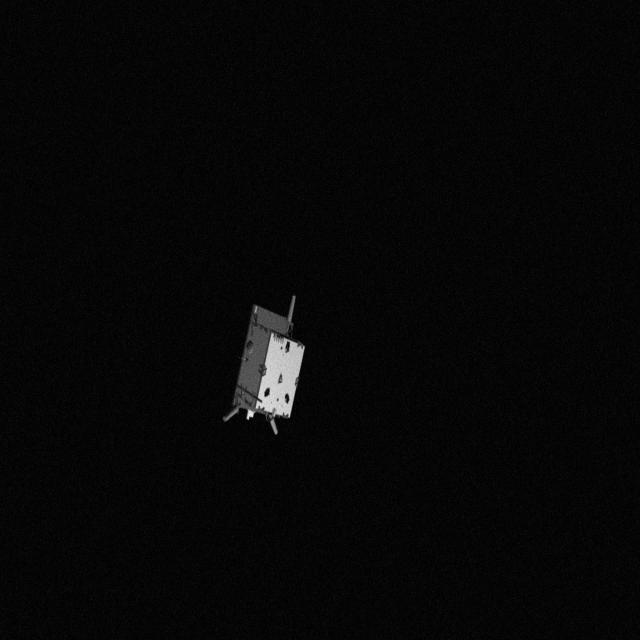satellite: (220, 290, 316, 440)
